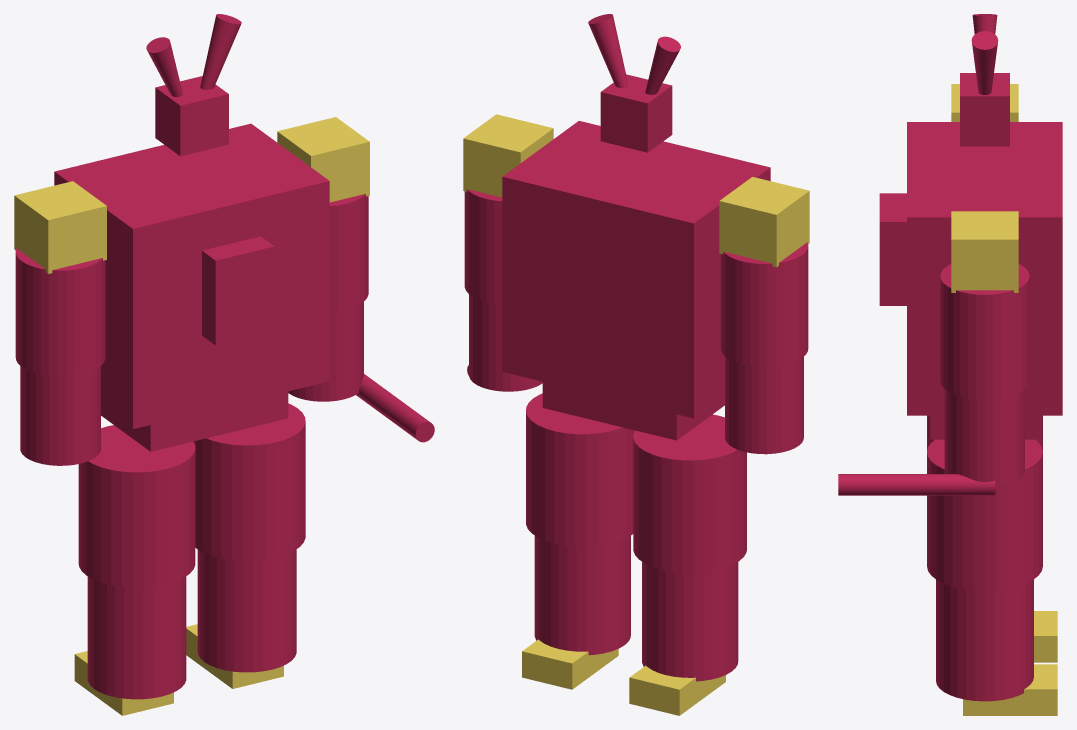
File: traits3.glb
3 renders of one model, left to right at view 1: azimuth 30°, elevation 25°; view 2: azimuth 150°, elevation 25°; view 3: azimuth 270°, elevation 25°, orthographic. The views are drawn at different scales.
Parts seen in each view (by area): view 1: GundarFrame_sample-berserker_torso, GundarFrame_sample-berserker_thigh_L, GundarFrame_sample-berserker_thigh_R, GundarFrame_sample-berserker_shin_L, GundarFrame_sample-berserker_shin_R, GundarFrame_sample-berserker_upperarm_L, GundarFrame_sample-berserker_forearm_L, GundarFrame_sample-berserker_pack, GundarFrame_sample-berserker_shoulder_L, GundarFrame_sample-berserker_shoulder_R, GundarFrame_sample-berserker_head, GundarFrame_sample-berserker_pelvis (+7 smaller); view 2: GundarFrame_sample-berserker_torso, GundarFrame_sample-berserker_thigh_L, GundarFrame_sample-berserker_thigh_R, GundarFrame_sample-berserker_shin_R, GundarFrame_sample-berserker_shin_L, GundarFrame_sample-berserker_upperarm_L, GundarFrame_sample-berserker_forearm_L, GundarFrame_sample-berserker_shoulder_L, GundarFrame_sample-berserker_shoulder_R, GundarFrame_sample-berserker_head, GundarFrame_sample-berserker_pelvis, GundarFrame_sample-berserker_upperarm_R (+5 smaller); view 3: GundarFrame_sample-berserker_torso, GundarFrame_sample-berserker_thigh_R, GundarFrame_sample-berserker_shin_R, GundarFrame_sample-berserker_upperarm_R, GundarFrame_sample-berserker_forearm_R, GundarFrame_sample-berserker_shoulder_R, GundarFrame_sample-berserker_head, GundarFrame_sample-berserker_weapon, GundarFrame_sample-berserker_pack, GundarFrame_sample-berserker_foot_R, GundarFrame_sample-berserker, GundarFrame_sample-berserker_foot_L (+3 smaller).
Boxes of the visible parts, <box> form: GundarFrame_sample-berserker_torso: <box>54,123,329,429</box>; GundarFrame_sample-berserker_thigh_L: <box>78,425,195,587</box>; GundarFrame_sample-berserker_thigh_R: <box>193,403,305,560</box>; GundarFrame_sample-berserker_shin_L: <box>87,576,186,699</box>; GundarFrame_sample-berserker_shin_R: <box>197,549,296,672</box>; GundarFrame_sample-berserker_upperarm_L: <box>15,248,105,376</box>; GundarFrame_sample-berserker_forearm_L: <box>20,366,100,465</box>; GundarFrame_sample-berserker_pack: <box>202,236,274,345</box>; GundarFrame_sample-berserker_shoulder_L: <box>14,181,106,273</box>; GundarFrame_sample-berserker_shoulder_R: <box>277,117,369,202</box>; GundarFrame_sample-berserker_head: <box>155,76,228,156</box>; GundarFrame_sample-berserker_pelvis: <box>101,391,288,451</box>; GundarFrame_sample-berserker_torso: <box>502,121,770,418</box>; GundarFrame_sample-berserker_thigh_L: <box>633,414,746,572</box>; GundarFrame_sample-berserker_thigh_R: <box>526,393,634,546</box>; GundarFrame_sample-berserker_shin_R: <box>534,535,630,655</box>; GundarFrame_sample-berserker_shin_L: <box>642,562,738,681</box>; GundarFrame_sample-berserker_upperarm_L: <box>720,242,808,366</box>; GundarFrame_sample-berserker_forearm_L: <box>725,357,803,454</box>; GundarFrame_sample-berserker_shoulder_L: <box>719,177,809,267</box>; GundarFrame_sample-berserker_shoulder_R: <box>463,114,553,197</box>; GundarFrame_sample-berserker_head: <box>600,74,672,152</box>; GundarFrame_sample-berserker_pelvis: <box>542,381,724,440</box>; GundarFrame_sample-berserker_upperarm_R: <box>464,189,502,304</box>; GundarFrame_sample-berserker_torso: <box>907,122,1062,415</box>; GundarFrame_sample-berserker_thigh_R: <box>927,439,1042,590</box>; GundarFrame_sample-berserker_shin_R: <box>936,579,1033,701</box>; GundarFrame_sample-berserker_upperarm_R: <box>940,264,1029,399</box>; GundarFrame_sample-berserker_forearm_R: <box>944,389,1024,487</box>; GundarFrame_sample-berserker_shoulder_R: <box>951,211,1018,292</box>; GundarFrame_sample-berserker_head: <box>960,73,1009,146</box>; GundarFrame_sample-berserker_weapon: <box>838,474,995,495</box>; GundarFrame_sample-berserker_pack: <box>879,193,906,305</box>; GundarFrame_sample-berserker_foot_R: <box>963,664,1057,715</box>; GundarFrame_sample-berserker: <box>971,31,998,94</box>; GundarFrame_sample-berserker_foot_L: <box>1034,611,1057,662</box>.
Size of the model in its own units: 1.86 by 3.45 by 1.07.
